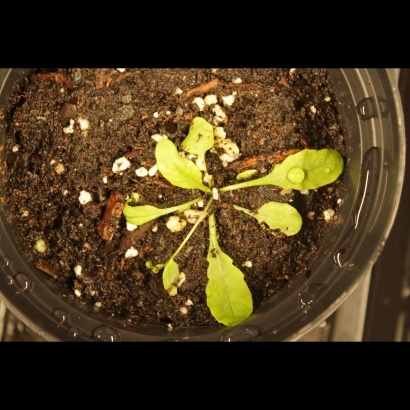leaf: (199, 243, 260, 329), (257, 140, 348, 196), (153, 130, 200, 195), (118, 190, 180, 234), (250, 197, 306, 242), (180, 113, 226, 157), (149, 251, 188, 295)
